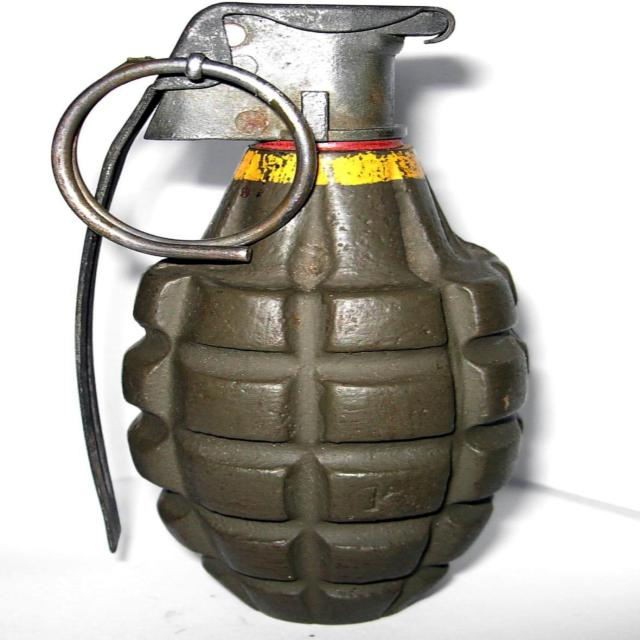grenade: (52, 2, 531, 628)
